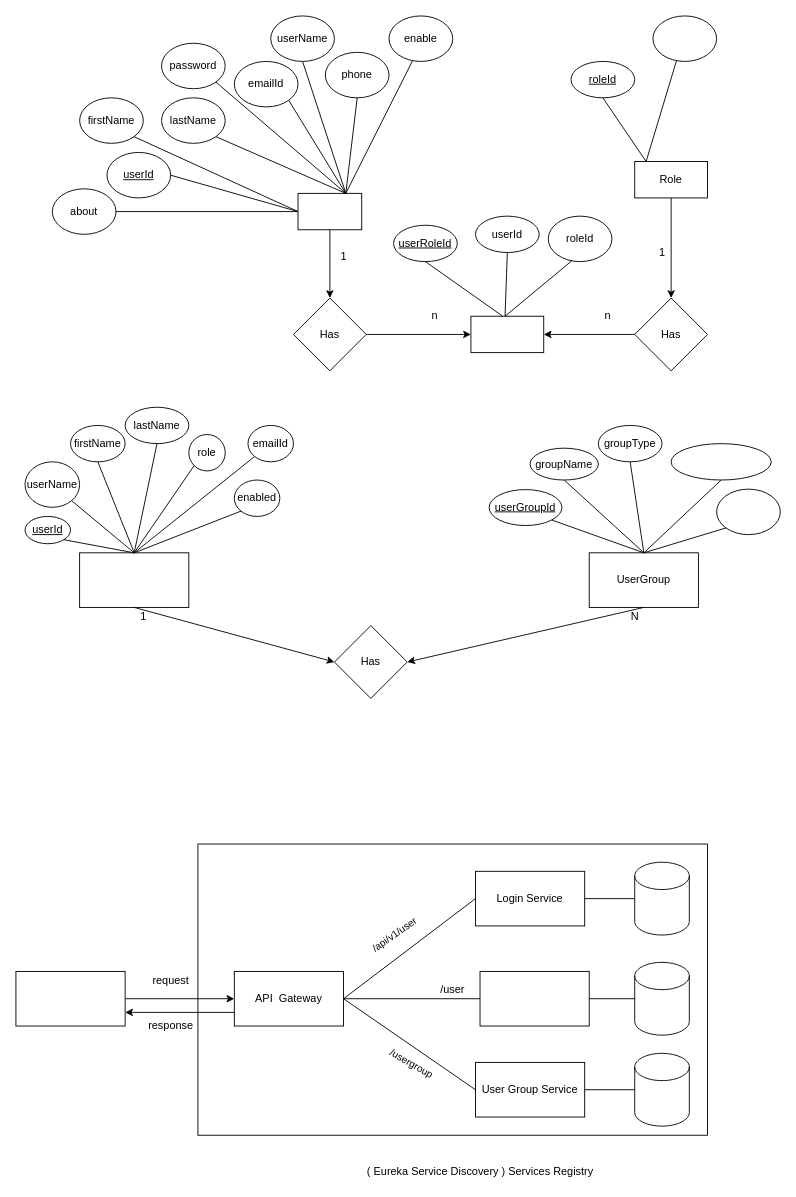
Image size: 796x1197. Some labels were removed from this diagram. Each missing label, with the box of its shape:
Client: (15, 971, 125, 1026)
groupDescription: (670, 443, 771, 480)
groupEmail: (716, 488, 780, 535)
Login User: (297, 192, 362, 230)
roleName: (652, 15, 717, 61)
User: (79, 552, 189, 607)
User Service: (479, 971, 589, 1026)
User_Role: (470, 315, 544, 353)
usergroupservice: (634, 1052, 689, 1126)
userservice: (634, 961, 689, 1035)
websiteadminportal: (634, 861, 689, 935)
